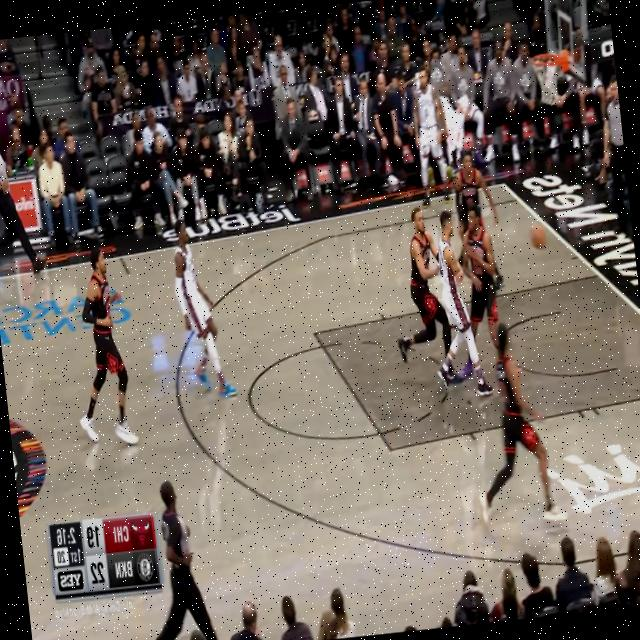foul: (372, 192, 546, 410)
no foul: (45, 202, 256, 472)
